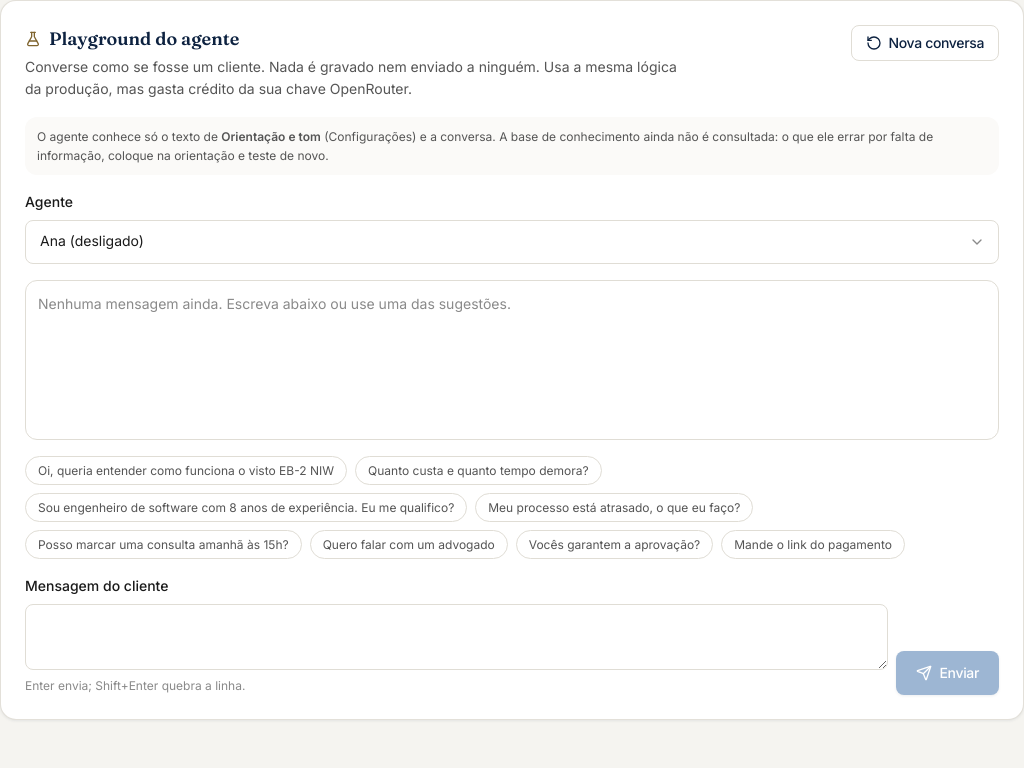
Test: PlaygroundAgente › sugestão envia direto; 'Nova conversa' apaga tudo
Click the button "Quanto custa e quanto tempo demora?".
click(478, 470)  # box [355, 456, 602, 485]
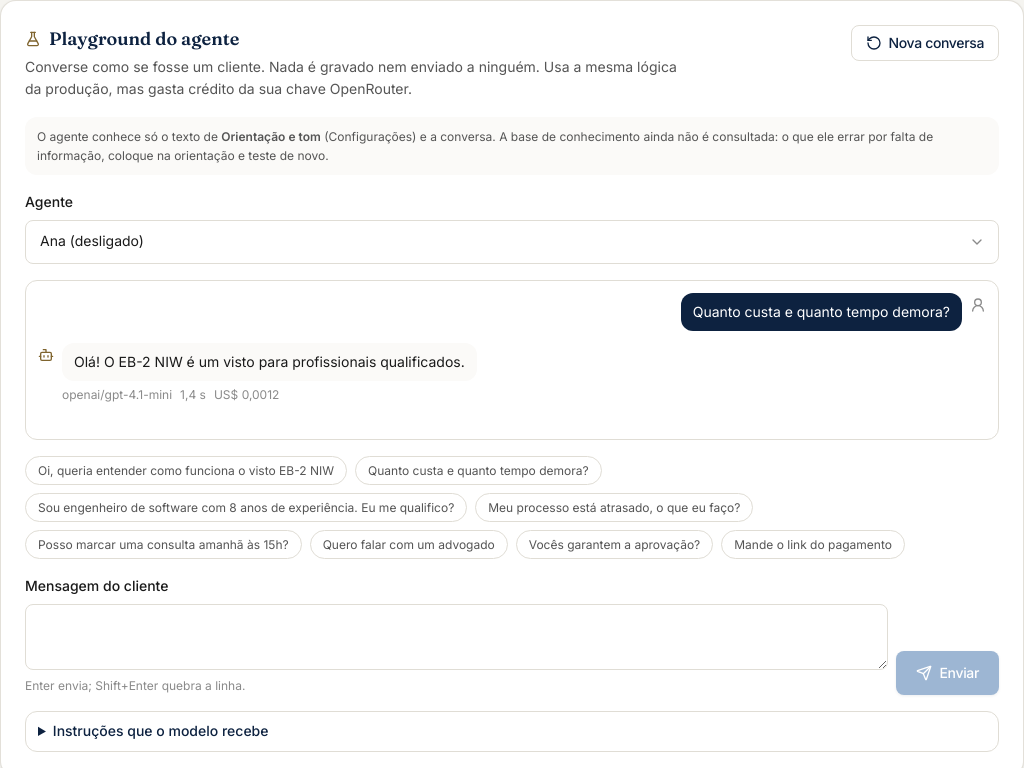
Check: the text "Olá! O EB-2 NIW é um visto para profissionais qualificados." is shown, box [62, 343, 477, 381]
Check: the text "Quanto custa e quanto tempo demora?" is shown, box [681, 292, 962, 331]
Click the button "Nova conversa".
click(925, 43)  # box [852, 25, 999, 61]
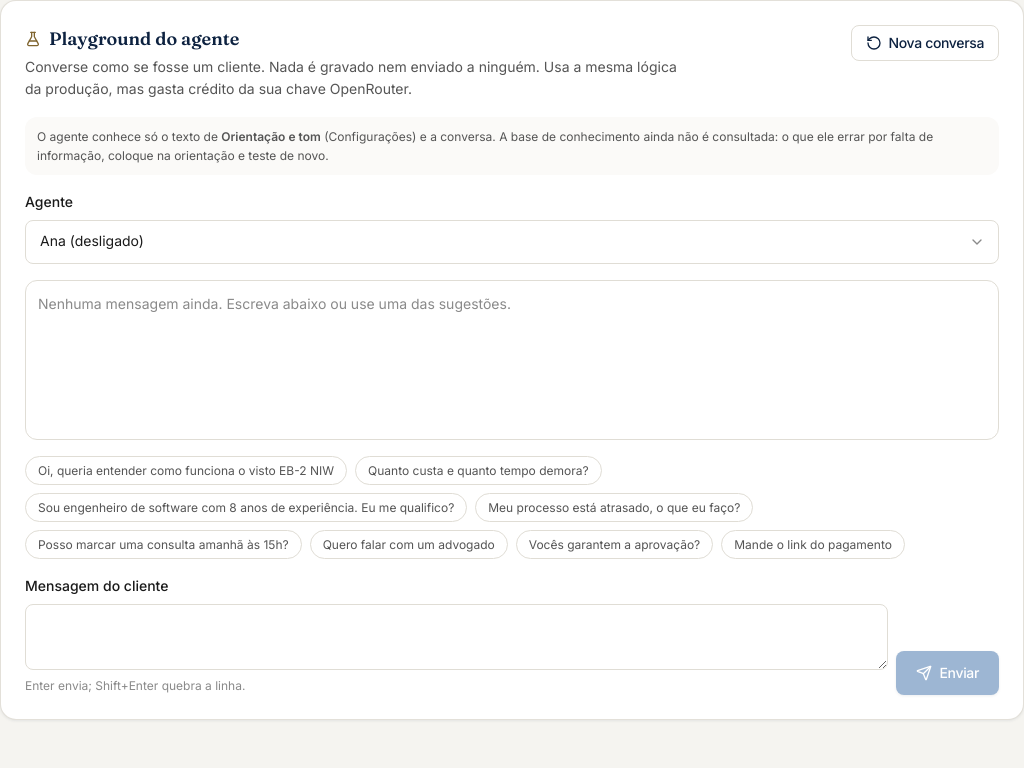
Check: the text "EB-2 NIW é um visto" is gone
Check: the text "Nenhuma mensagem ainda" is shown, box [38, 294, 511, 312]
